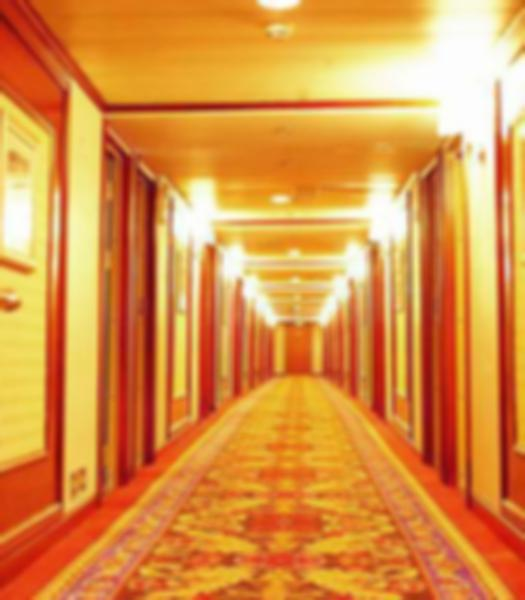Puerta: (0, 0, 66, 528), (444, 149, 471, 494), (506, 123, 525, 574), (418, 169, 445, 469), (138, 171, 157, 467), (108, 121, 121, 485), (371, 241, 387, 411), (286, 321, 313, 376)
